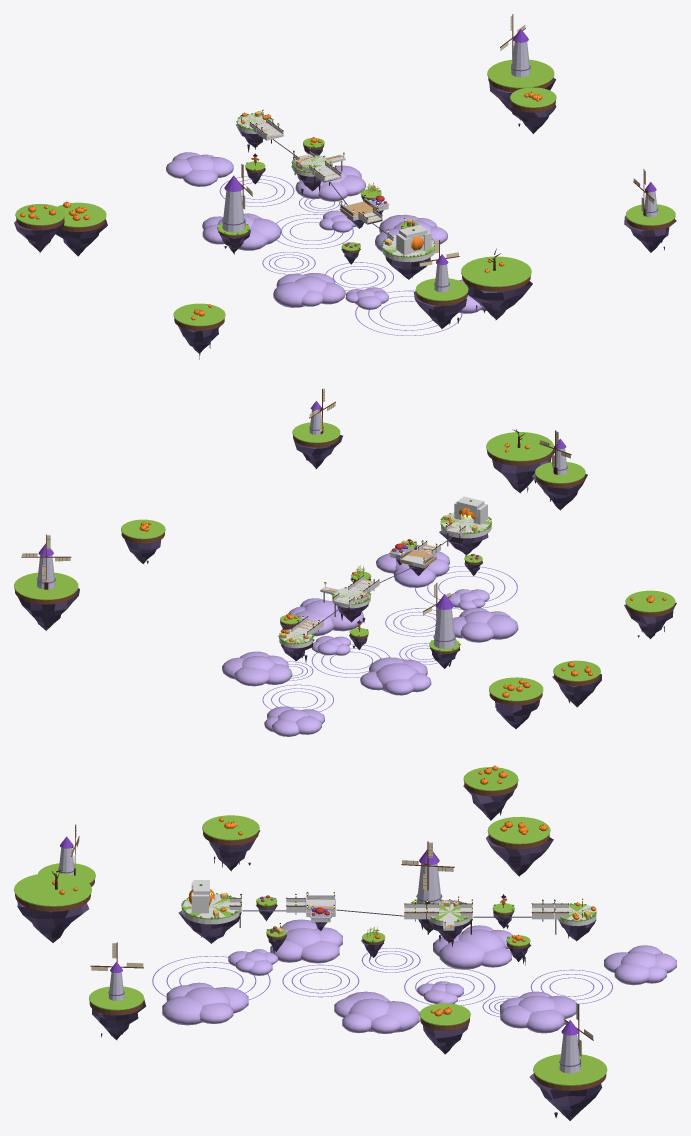
3 views of the same model, one above another, from view 1: azimuth 30°, elevation 25°; view 2: azimuth 150°, elevation 25°; view 3: azimuth 270°, elevation 25° (orthographic). The views are drawn at different scales.
Visible parts, largest first — view 1: V_mist, V_grass, V_rock, V_dirt, V_stone_light, V_lake_hi, C_0, V_pumpkin, C_1, V_cloth_purple; view 2: V_mist, V_grass, V_rock, C_0, V_dirt, V_stone_light, V_lake_hi, V_pumpkin, C_1; view 3: V_mist, V_grass, V_rock, C_0, V_dirt, V_lake_hi, V_stone_light, V_pumpkin, V_cloth_purple, C_1.
Boxes of the visible parts, bbox=[...] form: V_mist: bbox=[166, 152, 486, 313]; V_grass: bbox=[15, 59, 675, 326]; V_rock: bbox=[14, 78, 676, 353]; V_dirt: bbox=[16, 77, 674, 330]; V_stone_light: bbox=[222, 41, 657, 292]; V_lake_hi: bbox=[219, 175, 462, 335]; C_0: bbox=[237, 114, 434, 262]; V_pumpkin: bbox=[20, 92, 542, 320]; C_1: bbox=[396, 225, 431, 255]; V_cloth_purple: bbox=[224, 29, 656, 265]; V_mist: bbox=[222, 545, 518, 736]; V_grass: bbox=[14, 422, 675, 701]; V_rock: bbox=[18, 435, 676, 728]; C_0: bbox=[279, 513, 491, 648]; V_dirt: bbox=[14, 435, 674, 705]; V_stone_light: bbox=[37, 410, 567, 648]; V_lake_hi: bbox=[262, 566, 517, 711]; V_pumpkin: bbox=[139, 443, 666, 697]; C_1: bbox=[454, 496, 487, 524]; V_mist: bbox=[162, 919, 676, 1033]; V_grass: bbox=[14, 767, 607, 1085]; V_rock: bbox=[17, 780, 602, 1120]; C_0: bbox=[182, 893, 596, 930]; V_dirt: bbox=[15, 782, 606, 1090]; V_lake_hi: bbox=[152, 948, 612, 1016]; V_stone_light: bbox=[58, 847, 580, 1073]; V_pumpkin: bbox=[52, 766, 596, 1016]; V_cloth_purple: bbox=[60, 836, 578, 1035]; C_1: bbox=[191, 880, 209, 913].
Size of what is drawn, in the model's own units: 149 by 33.59 by 136.
